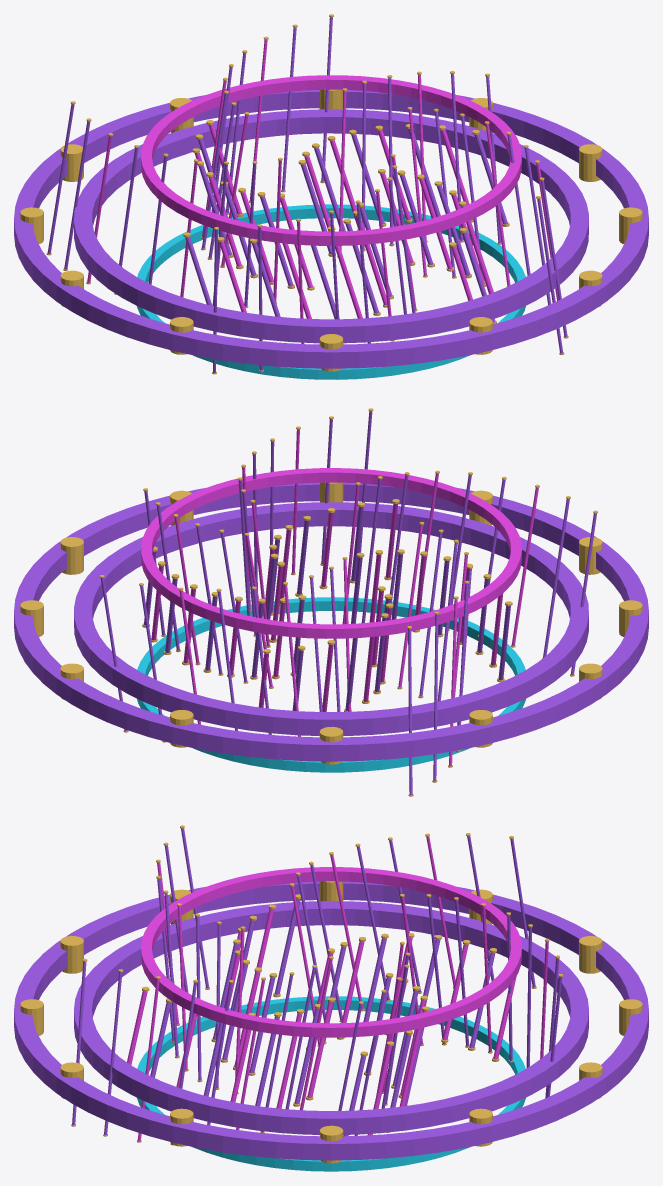
The model's file is 06_L81_VirtualParticleStormProjector.fbx.
The picture shows the model from 3 angles, top to bottom: view 1: azimuth 30°, elevation 25°; view 2: azimuth 150°, elevation 25°; view 3: azimuth 270°, elevation 25°; orthographic projection.
Visible parts, largest first — view 1: VirtualParticleStormProjector, VirtualParticleStormProjector_Part_0129, VirtualParticleStormProjector_Part_0130, VirtualParticleStormProjector_Part_0138, VirtualParticleStormProjector_Part_0131, VirtualParticleStormProjector_Part_0137; view 2: VirtualParticleStormProjector, VirtualParticleStormProjector_Part_0129, VirtualParticleStormProjector_Part_0130, VirtualParticleStormProjector_Part_0134; view 3: VirtualParticleStormProjector, VirtualParticleStormProjector_Part_0129, VirtualParticleStormProjector_Part_0138, VirtualParticleStormProjector_Part_0134, VirtualParticleStormProjector_Part_0133, VirtualParticleStormProjector_Part_0139, VirtualParticleStormProjector_Part_0193.
Part boxes in pixels (bbox=[...]): VirtualParticleStormProjector: bbox=[46, 14, 588, 379]; VirtualParticleStormProjector_Part_0129: bbox=[14, 90, 648, 368]; VirtualParticleStormProjector_Part_0130: bbox=[579, 144, 602, 181]; VirtualParticleStormProjector_Part_0138: bbox=[60, 144, 83, 181]; VirtualParticleStormProjector_Part_0131: bbox=[619, 207, 642, 244]; VirtualParticleStormProjector_Part_0137: bbox=[20, 207, 43, 243]; VirtualParticleStormProjector: bbox=[74, 408, 597, 796]; VirtualParticleStormProjector_Part_0129: bbox=[14, 482, 648, 761]; VirtualParticleStormProjector_Part_0130: bbox=[60, 537, 83, 574]; VirtualParticleStormProjector_Part_0134: bbox=[579, 537, 602, 574]; VirtualParticleStormProjector: bbox=[71, 825, 588, 1171]; VirtualParticleStormProjector_Part_0129: bbox=[14, 881, 648, 1160]; VirtualParticleStormProjector_Part_0138: bbox=[579, 936, 602, 973]; VirtualParticleStormProjector_Part_0134: bbox=[60, 936, 83, 973]; VirtualParticleStormProjector_Part_0133: bbox=[20, 999, 43, 1035]; VirtualParticleStormProjector_Part_0139: bbox=[619, 999, 642, 1035]; VirtualParticleStormProjector_Part_0193: bbox=[274, 899, 300, 994].
Bounding box in the file's own units: 350 × 103 × 350.
